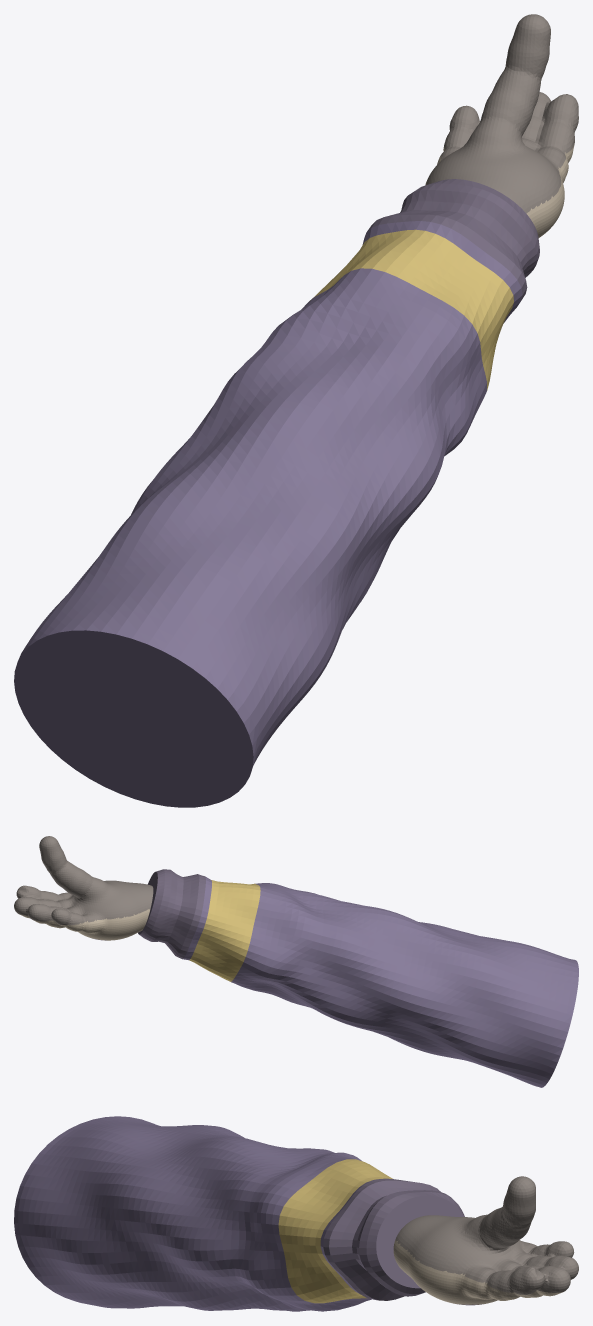
The model's file is supportL.glb.
The picture shows the model from 3 angles, top to bottom: view 1: azimuth 30°, elevation 25°; view 2: azimuth 150°, elevation 25°; view 3: azimuth 270°, elevation 25°; orthographic projection. The views are drawn at different scales.
Visible parts, largest first — view 1: vm_supportL_sleeve_uniform, vm_supportL_glove_grip, vm_supportL_sleeve_stripe, vm_supportL_sleeve_cuff, vm_supportL_glove_canvas; view 2: vm_supportL_sleeve_uniform, vm_supportL_glove_grip, vm_supportL_sleeve_stripe, vm_supportL_sleeve_cuff, vm_supportL_glove_canvas; view 3: vm_supportL_sleeve_uniform, vm_supportL_glove_grip, vm_supportL_sleeve_cuff, vm_supportL_sleeve_stripe, vm_supportL_glove_canvas.
Boxes of the visible parts, x1=… form: vm_supportL_sleeve_uniform: x1=14, y1=221, x2=522, y2=807; vm_supportL_glove_grip: x1=426, y1=14, x2=578, y2=213; vm_supportL_sleeve_stripe: x1=310, y1=229, x2=513, y2=390; vm_supportL_sleeve_cuff: x1=367, y1=179, x2=539, y2=300; vm_supportL_glove_canvas: x1=425, y1=144, x2=574, y2=237; vm_supportL_sleeve_uniform: x1=183, y1=876, x2=578, y2=1087; vm_supportL_glove_grip: x1=14, y1=836, x2=153, y2=925; vm_supportL_sleeve_stripe: x1=189, y1=880, x2=260, y2=981; vm_supportL_sleeve_cuff: x1=138, y1=869, x2=205, y2=959; vm_supportL_glove_canvas: x1=20, y1=909, x2=150, y2=940; vm_supportL_sleeve_uniform: x1=14, y1=1116, x2=376, y2=1311; vm_supportL_glove_grip: x1=395, y1=1176, x2=578, y2=1294; vm_supportL_sleeve_cuff: x1=323, y1=1178, x2=464, y2=1300; vm_supportL_sleeve_stripe: x1=278, y1=1159, x2=392, y2=1303; vm_supportL_glove_canvas: x1=393, y1=1240, x2=562, y2=1304.
Size of the model in its own units: 0.6932 by 0.3932 by 0.5396.
